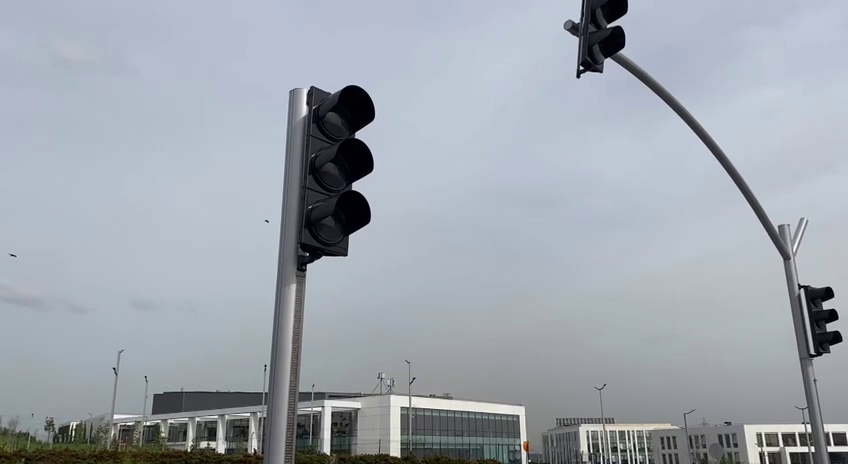trafficLight: (287, 79, 378, 266), (572, 1, 631, 81), (796, 282, 844, 359)
